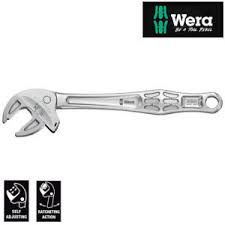wrench: (4, 82, 225, 140)
